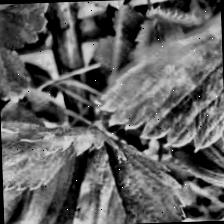Powdery Mildew Leaf: (0, 116, 121, 192)
